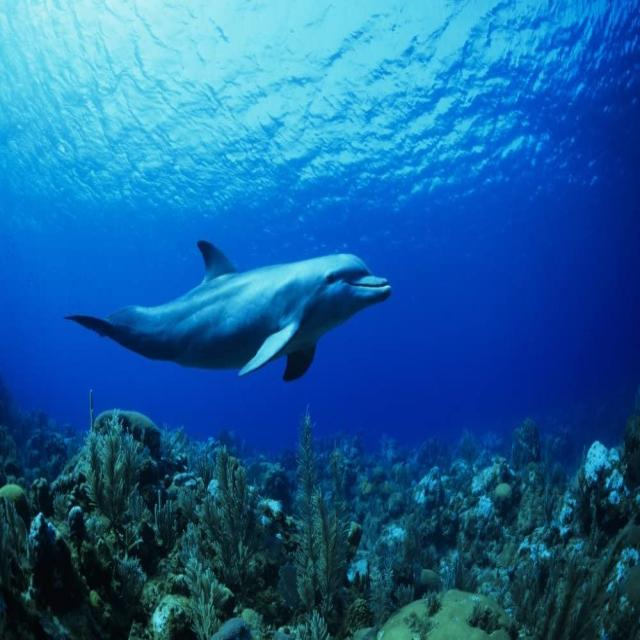dolphin: (37, 214, 410, 416)
